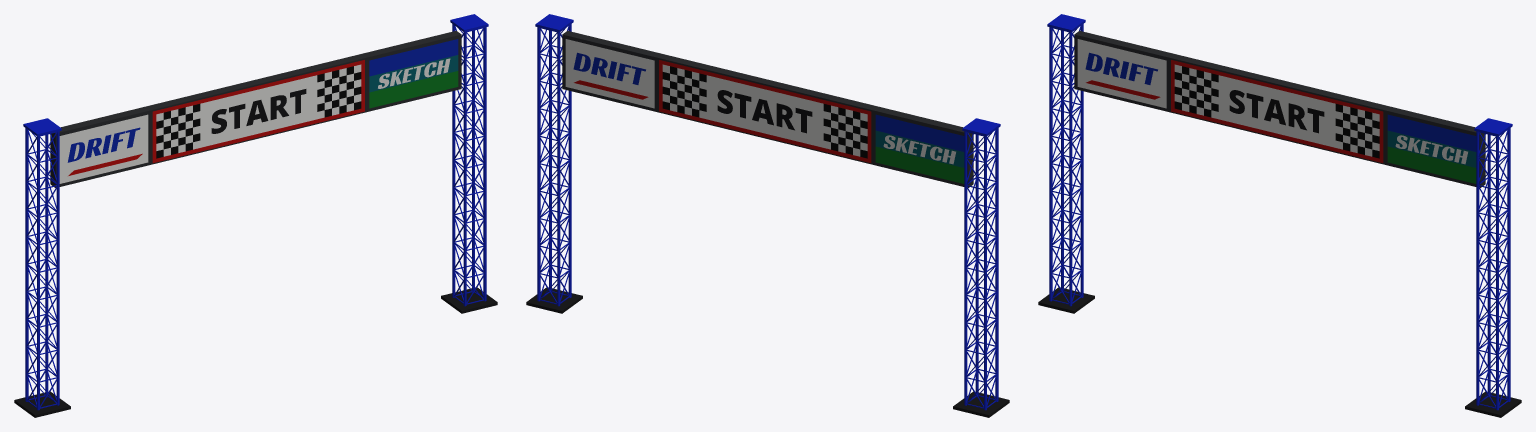
Rendered from gate_start.dae.
3 renders of one model, left to right at view 1: azimuth 30°, elevation 25°; view 2: azimuth 150°, elevation 25°; view 3: azimuth 330°, elevation 25°, orthographic.
Visible parts, largest first — view 1: gate_start; view 2: gate_start; view 3: gate_start.
Part boxes in pixels (bbox=[...]): gate_start: bbox=[14, 14, 497, 417]; gate_start: bbox=[526, 14, 1009, 417]; gate_start: bbox=[1038, 14, 1521, 417].
Bounding box in the file's own units: 10.3 × 0.8 × 5.95.
